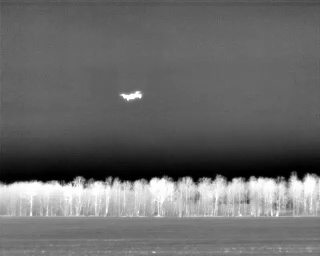DRONE: (117, 86, 147, 106)
